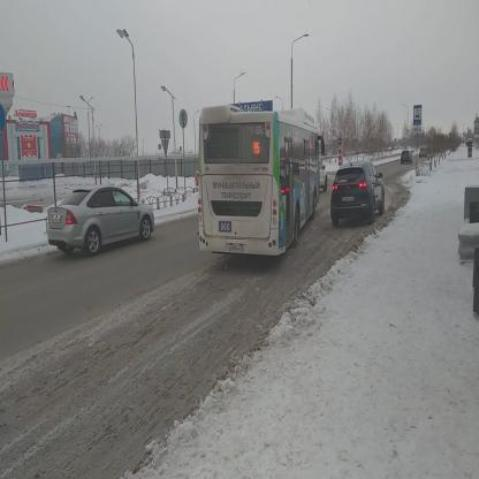bus: (196, 102, 328, 264)
car: (39, 183, 157, 257), (330, 159, 390, 227), (398, 147, 415, 168), (420, 149, 433, 162)
